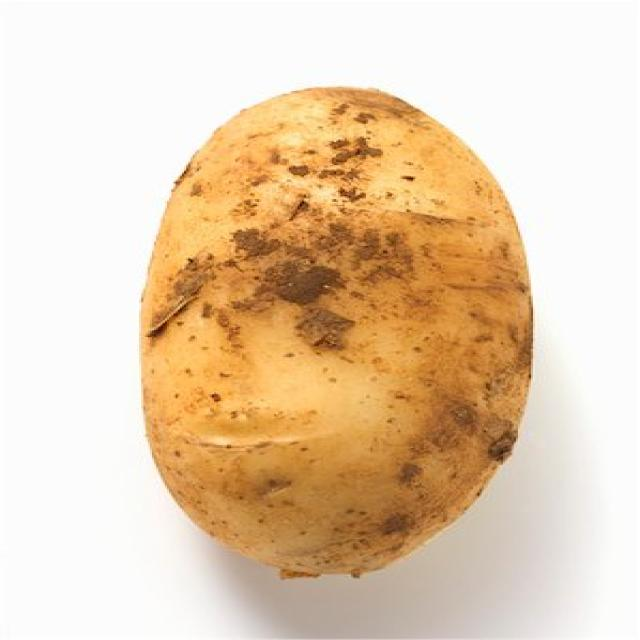potato: (137, 88, 533, 576)
